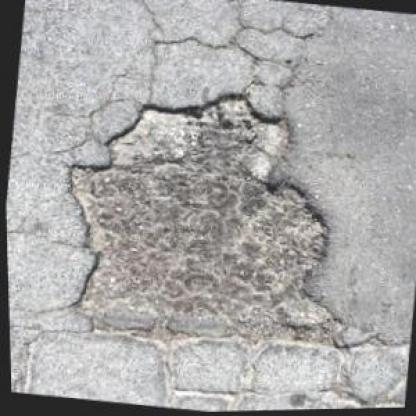pothole: (43, 69, 355, 364)
